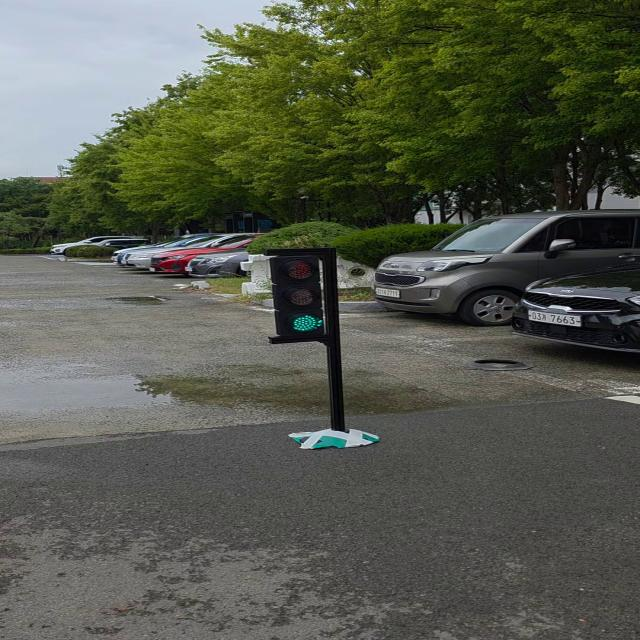green: (268, 251, 345, 343)
